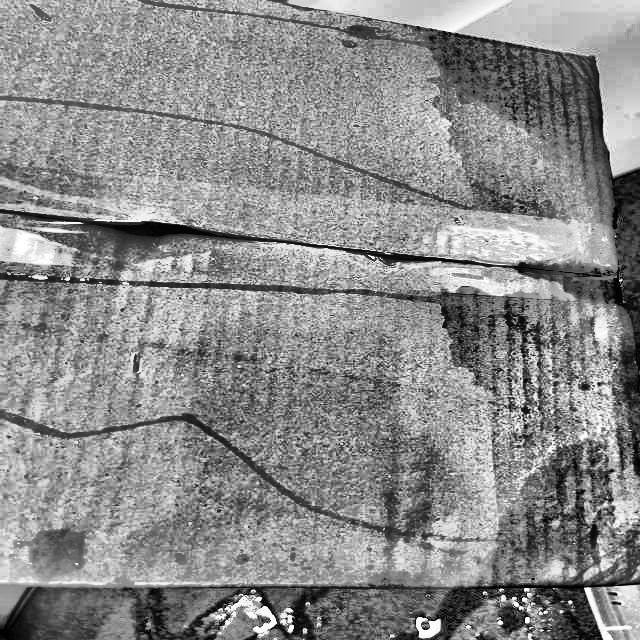box: (0, 0, 640, 602)
wet: (450, 18, 640, 602)
